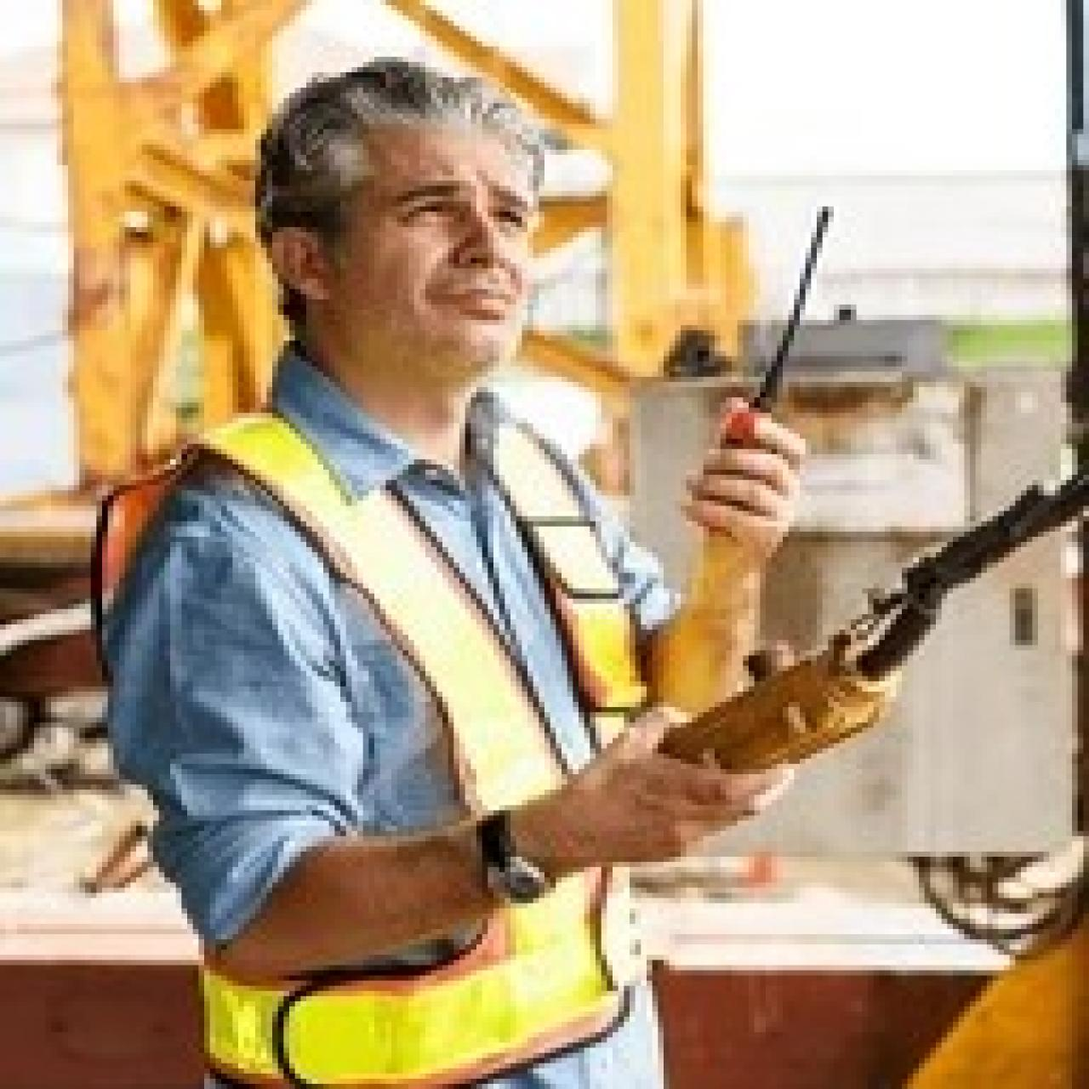Person: (96, 52, 823, 1089)
Safety_Vest: (108, 408, 661, 1083)
